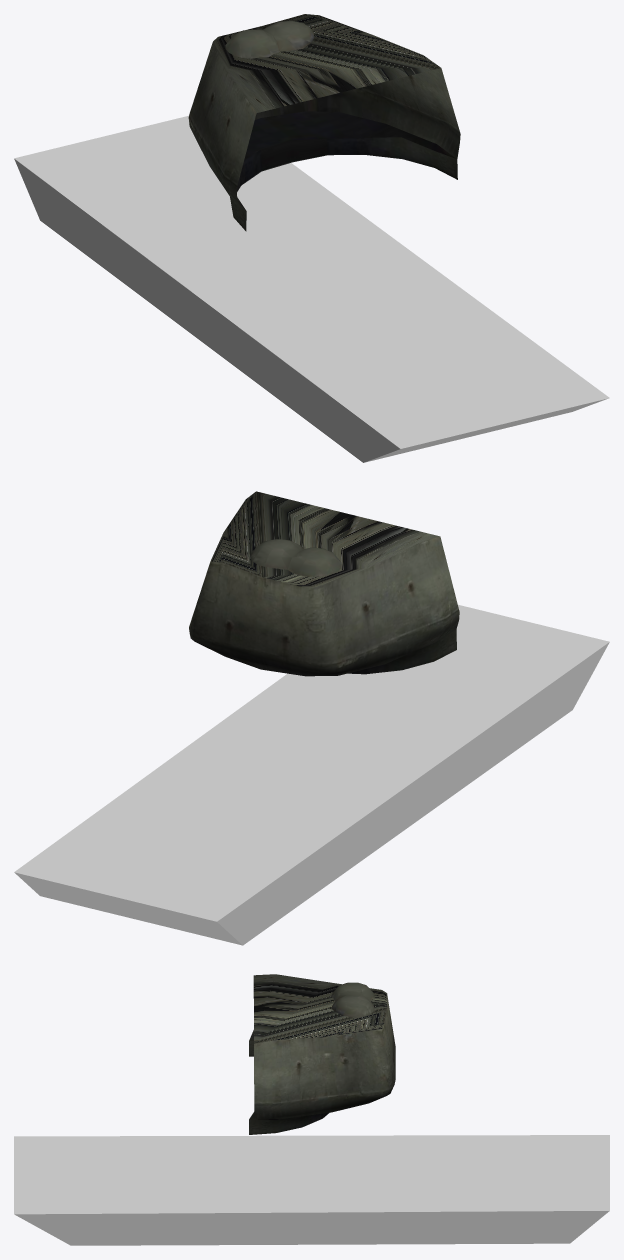
3 renders of one model, top to bottom at view 1: azimuth 30°, elevation 25°; view 2: azimuth 150°, elevation 25°; view 3: azimuth 270°, elevation 25°, orthographic. The views are drawn at different scales.
Parts seen in each view (by area): view 1: ButtonCollison, Tower Main Collison; view 2: ButtonCollison, Tower Main Collison; view 3: ButtonCollison, Tower Main Collison.
Part boxes in pixels (box(x1,y1,x2,y2)): ButtonCollison: box(14, 115, 609, 462); Tower Main Collison: box(188, 14, 460, 231); ButtonCollison: box(14, 604, 609, 945); Tower Main Collison: box(189, 491, 459, 676); ButtonCollison: box(14, 1135, 609, 1245); Tower Main Collison: box(249, 974, 395, 1134).
Size of what is drawn, in the model's own units: 2102 by 2464 by 6350.
